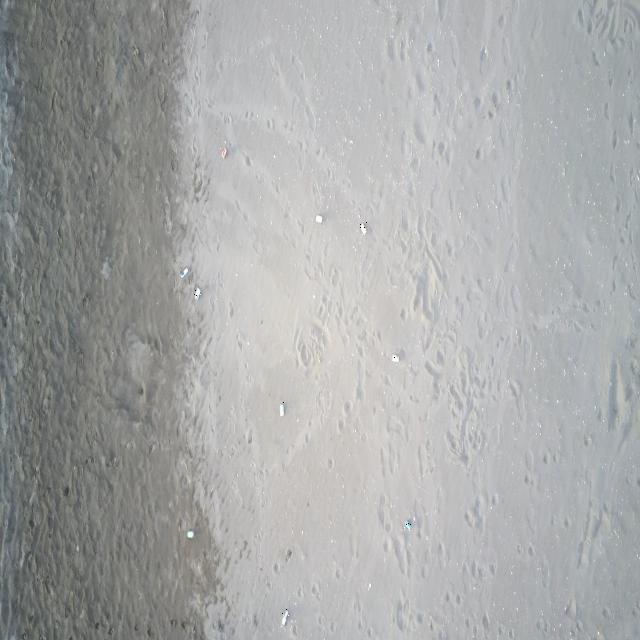Garbage: (280, 608, 287, 624), (220, 144, 227, 159), (179, 267, 187, 278), (186, 528, 193, 539), (193, 288, 200, 299), (360, 221, 366, 233), (315, 213, 322, 223), (392, 353, 399, 362), (279, 400, 283, 415), (404, 520, 411, 527)
